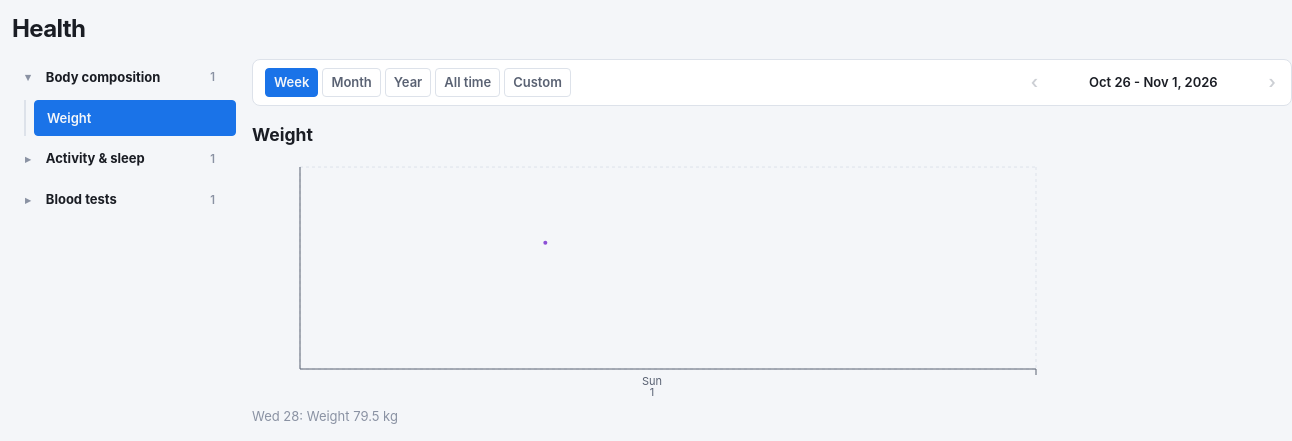
it: HealthPage › lists every metric that has data, and switching selection swaps the visible chart
Note: Steps sits in the collapsed "Activity & sleep" group until it is opened.
What coordinates should you click on to do the following:
click the button "▸ Activity & sleep 1"
I would click on:
 (124, 159)
Its box is [12,140,236,177].
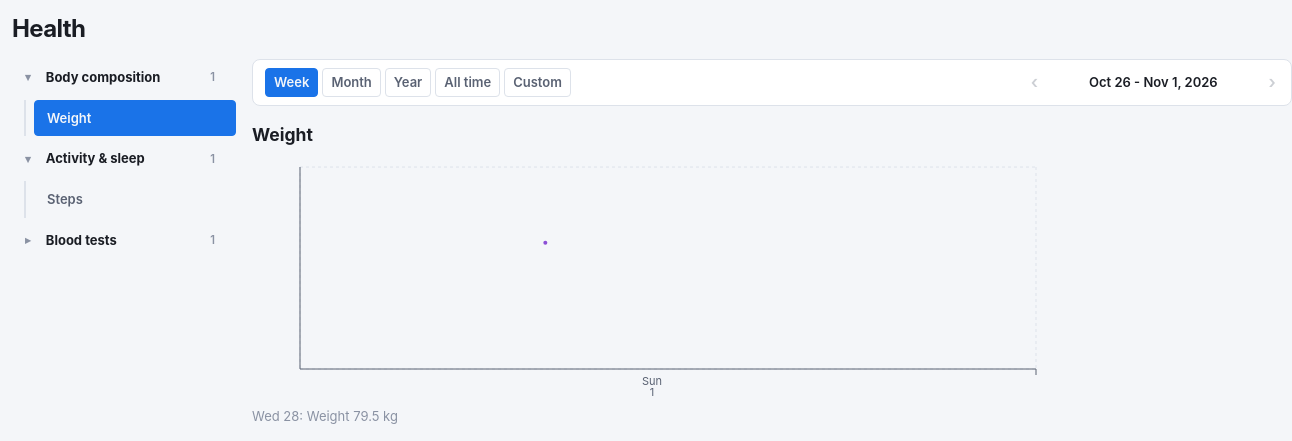
Expected: the navigation bar named "Metrics" shows "Weight", [34,100,236,136]
Now the navigation bar named "Metrics" shows "Steps"
What coordinates should you click on to do the following:
click the button "Steps"
I would click on:
 (135, 200)
Its box is [34,181,236,218].
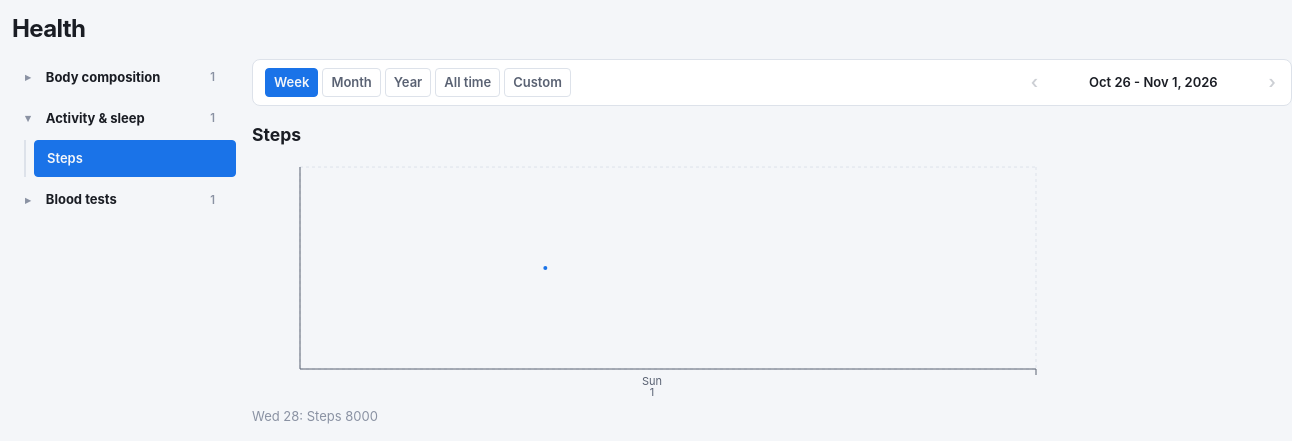
Now the heading "Steps" is shown, box [252,124,301,145]
Now the button "Weight" is gone
